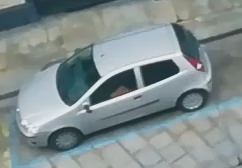Car: (10, 15, 216, 155)
